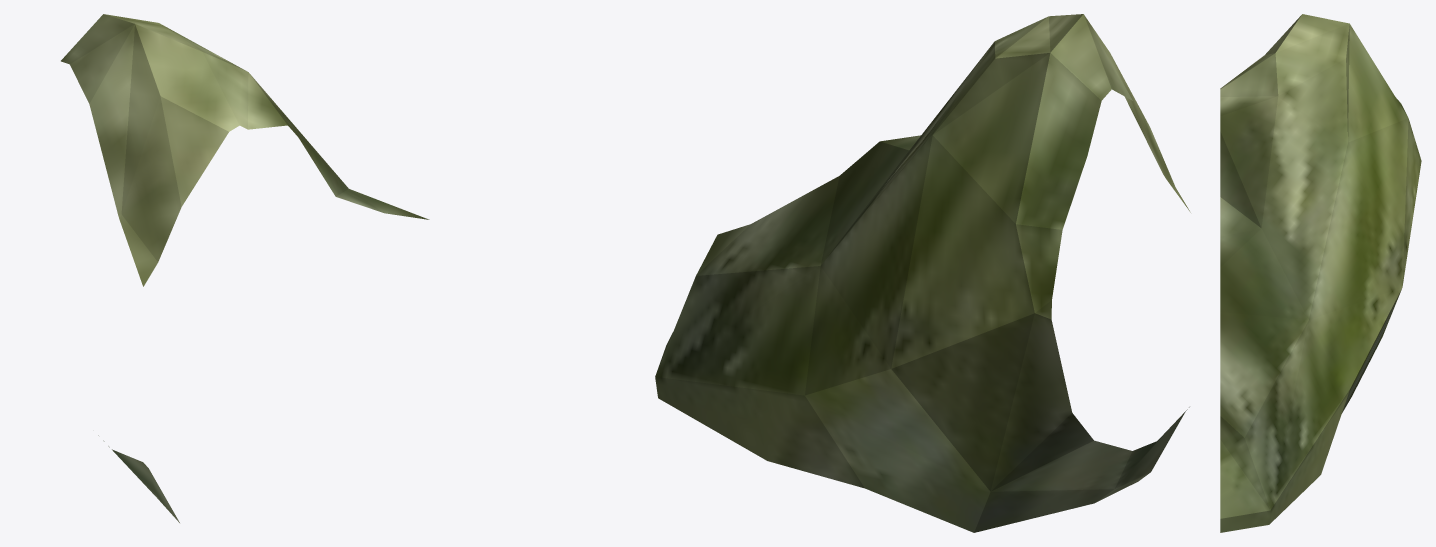
3 views of the same model, side by side, from view 1: azimuth 30°, elevation 25°; view 2: azimuth 150°, elevation 25°; view 3: azimuth 270°, elevation 25° (orthographic). The views are drawn at different scales.
Size of the model in its own units: 0.7412 by 0.6892 by 0.3514.
1 material, 1 textured.
